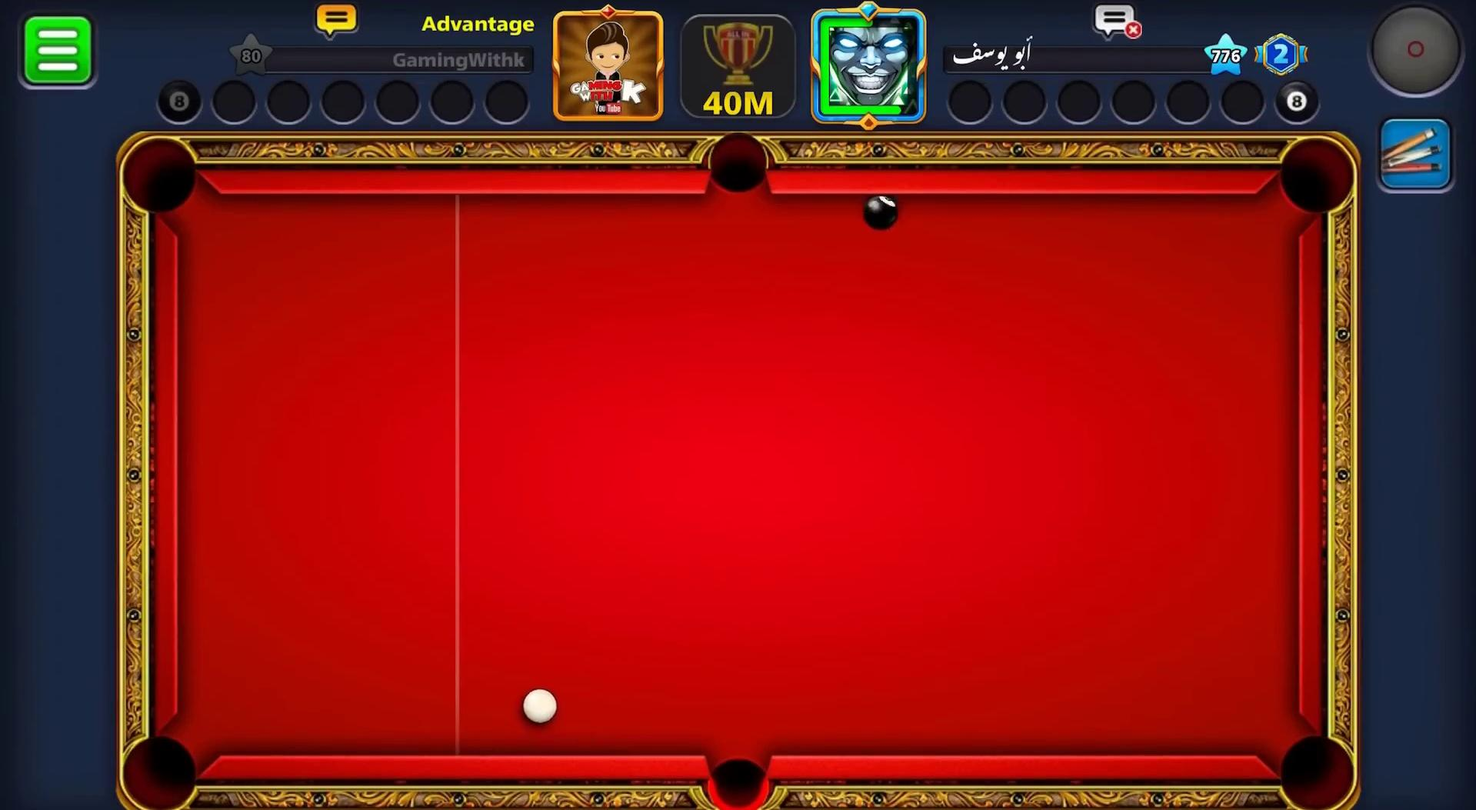Ball: (860, 193, 899, 232)
Hole: (689, 739, 785, 809), (1278, 136, 1356, 218), (122, 135, 199, 212), (1278, 734, 1356, 809), (122, 734, 198, 809), (706, 132, 769, 195)
Play_Area: (176, 194, 1298, 754)
Spin: (1364, 2, 1471, 102)
White: (508, 682, 566, 729)
